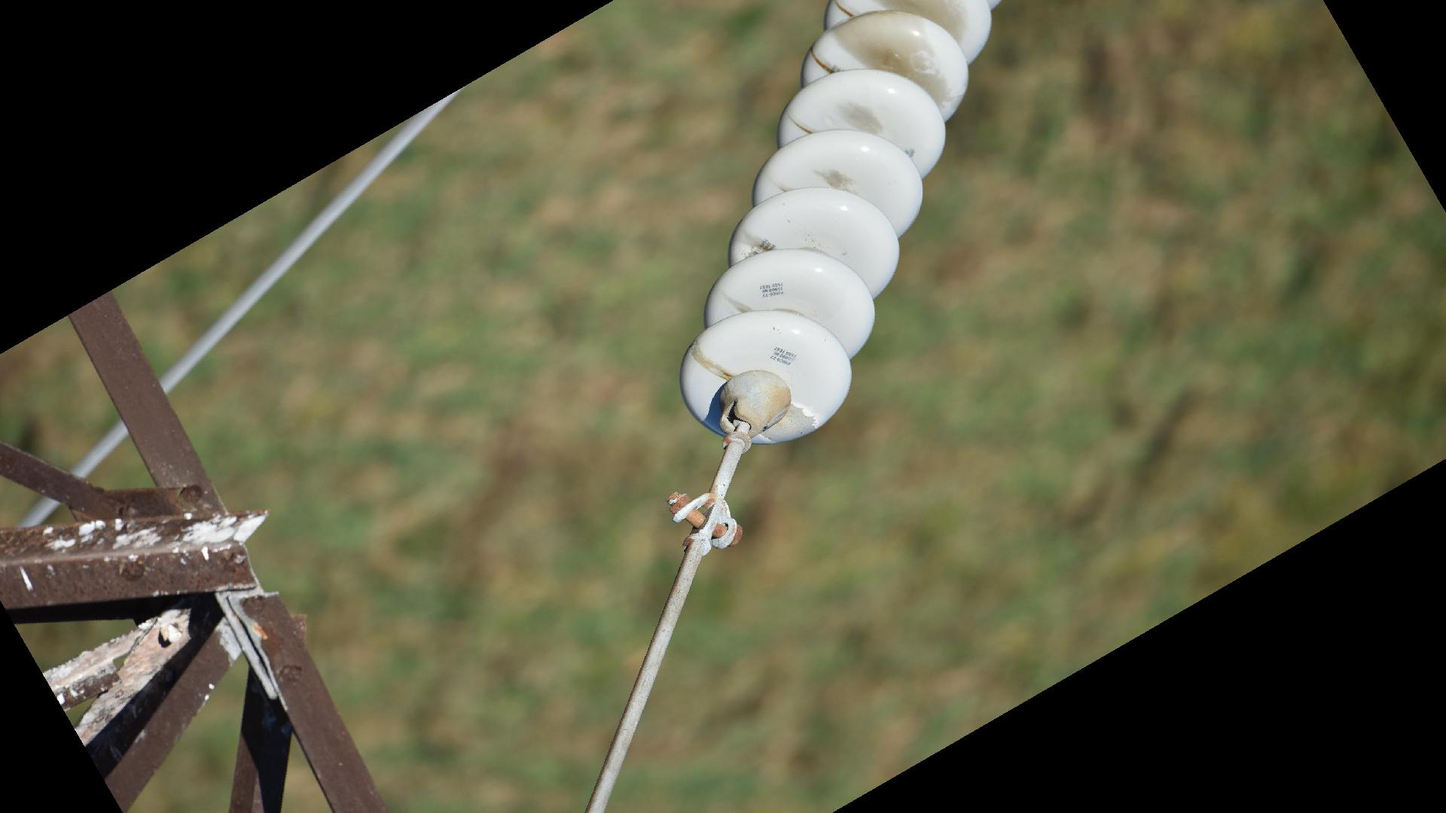insulator: (673, 1, 1006, 452)
insulator_flashover: (760, 403, 818, 446)
